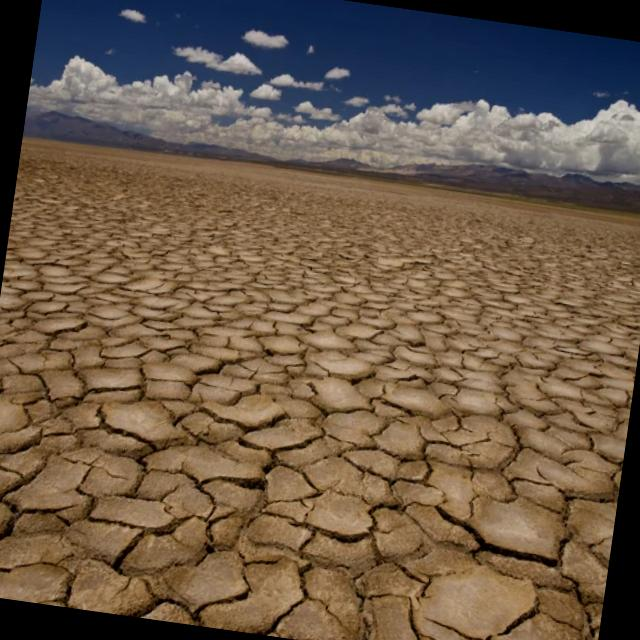suelo_seco: (33, 149, 640, 604)
